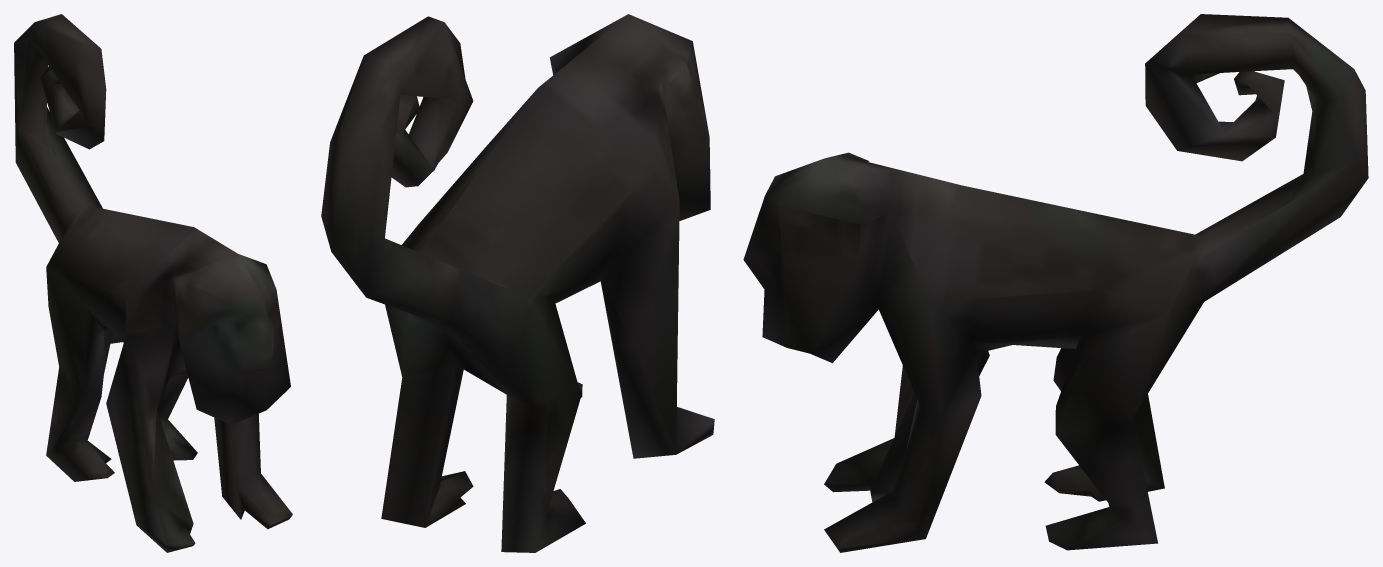
The model's file is howler_monkey-CRelpkrH.glb.
The picture shows the model from 3 angles, left to right: view 1: azimuth 30°, elevation 25°; view 2: azimuth 150°, elevation 25°; view 3: azimuth 270°, elevation 25°; orthographic projection. The views are drawn at different scales.
Visible parts, largest first — view 1: geom0; view 2: geom0; view 3: geom0.
Part boxes in pixels (x1,y1,x2,y2): geom0: [14, 14, 292, 552]; geom0: [321, 14, 714, 552]; geom0: [743, 14, 1368, 552].
Size of the model in its own units: 0.3268 by 0.8784 by 0.9991.
1 material, 1 textured.
